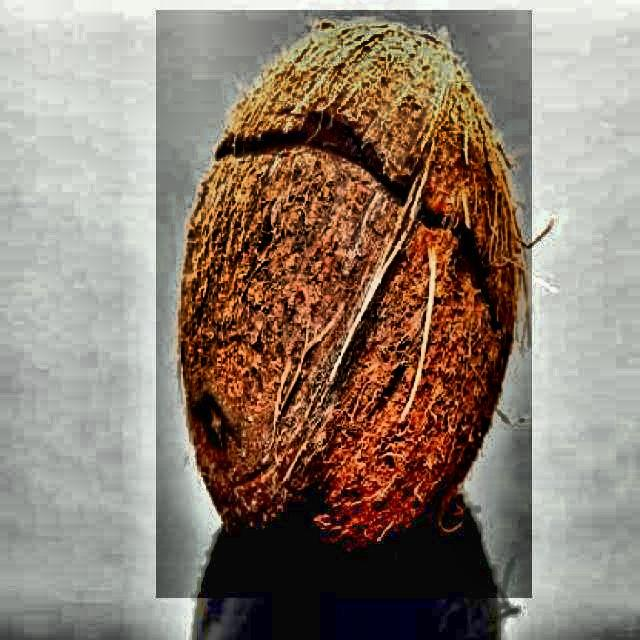cracked-coconut: (177, 17, 527, 533)
